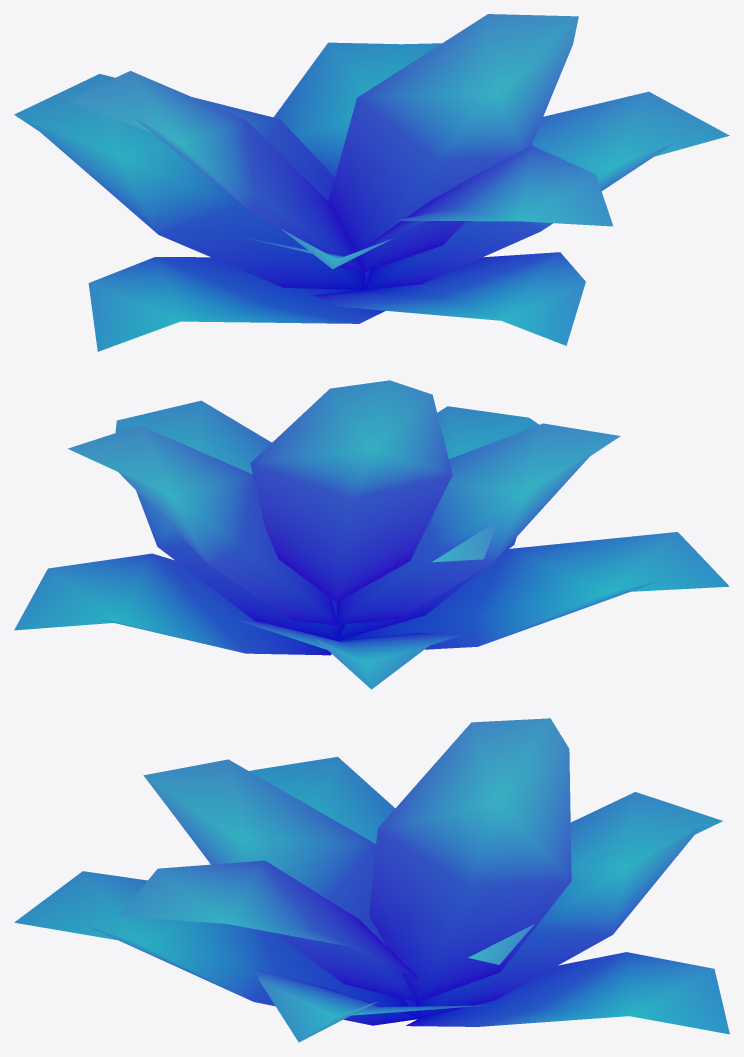
The model's file is SM_Env_Flower_01.glb.
3 renders of one model, top to bottom at view 1: azimuth 30°, elevation 25°; view 2: azimuth 150°, elevation 25°; view 3: azimuth 270°, elevation 25°, orthographic. The views are drawn at different scales.
Visible parts, largest first — view 1: SM_Env_Flower_01_LOD0; view 2: SM_Env_Flower_01_LOD0; view 3: SM_Env_Flower_01_LOD0.
Boxes of the visible parts, left/top/right/bottom form: SM_Env_Flower_01_LOD0: left=14, top=14, right=729, bottom=351; SM_Env_Flower_01_LOD0: left=14, top=380, right=729, bottom=689; SM_Env_Flower_01_LOD0: left=14, top=718, right=729, bottom=1042.
Size of what is drawn, in the model's own units: 0.5625 by 0.1673 by 0.5457.
